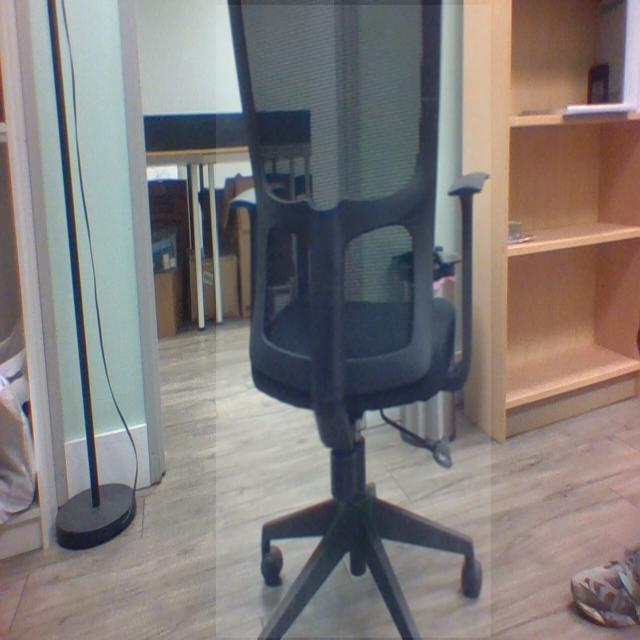chair: (216, 5, 492, 639)
